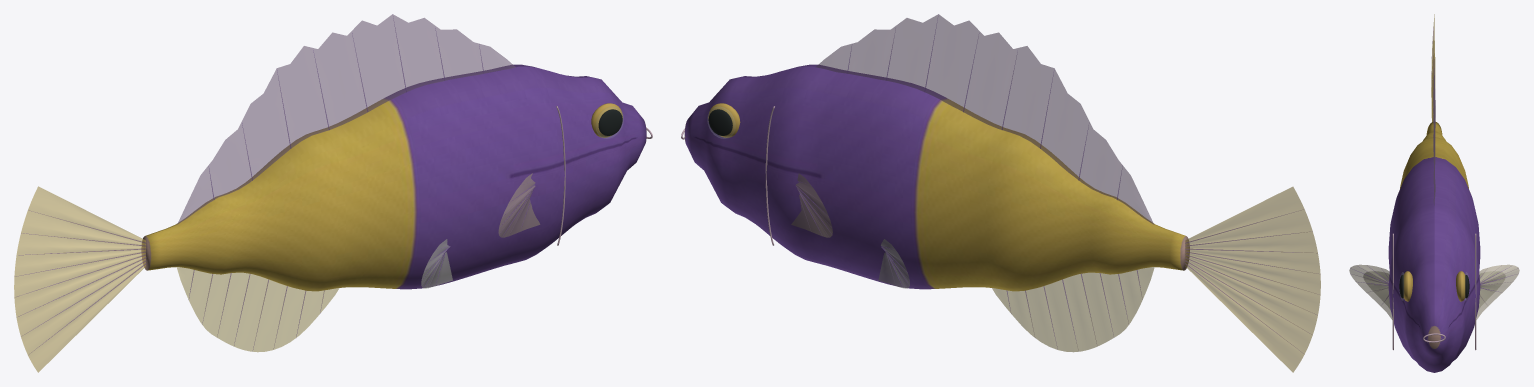
The model's file is royal-mobile.glb.
3 views of the same model, side by side, from view 1: azimuth 30°, elevation 25°; view 2: azimuth 150°, elevation 25°; view 3: azimuth 270°, elevation 25° (orthographic). The views are drawn at different scales.
Visible parts, largest first — view 1: skin, dorsal, tail, anal, dorsal-ray, pectoral-left, pelvic-left, eye-pupil--1; view 2: skin, dorsal, tail, anal, dorsal-ray, pectoral-left, pelvic-left, eye-pupil--1; view 3: skin, pectoral-left, pelvic-left, operculum, eye-iris--1, dorsal, tail, dorsal-ray, eye-pupil--1.
Part boxes in pixels (x1,y1,x2,y2): skin: [141, 64, 646, 291]; dorsal: [177, 14, 515, 224]; tail: [14, 186, 145, 372]; anal: [176, 267, 339, 352]; dorsal-ray: [16, 14, 534, 352]; pectoral-left: [498, 173, 539, 237]; pelvic-left: [421, 239, 452, 288]; eye-pupil--1: [598, 109, 622, 135]; skin: [684, 64, 1189, 291]; dorsal: [816, 14, 1153, 224]; tail: [1185, 187, 1320, 372]; anal: [992, 267, 1154, 352]; dorsal-ray: [796, 14, 1317, 348]; pectoral-left: [791, 173, 832, 237]; pelvic-left: [878, 239, 909, 288]; eye-pupil--1: [708, 109, 732, 135]; skin: [1388, 122, 1480, 372]; pectoral-left: [1349, 264, 1519, 319]; pelvic-left: [1363, 271, 1505, 308]; operculum: [1392, 233, 1476, 350]; eye-iris--1: [1403, 271, 1465, 301]; dorsal: [1433, 59, 1435, 205]; tail: [1431, 14, 1435, 121]; dorsal-ray: [1351, 28, 1517, 301]; eye-pupil--1: [1399, 275, 1469, 298].
Size of the model in its own units: 0.5972 by 0.2773 by 0.1669.
11 materials, 1 textured.
